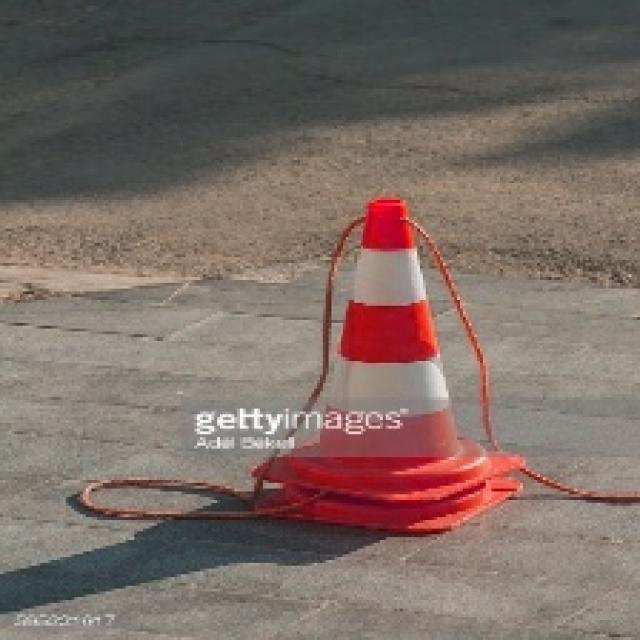cone: (243, 195, 530, 538)
